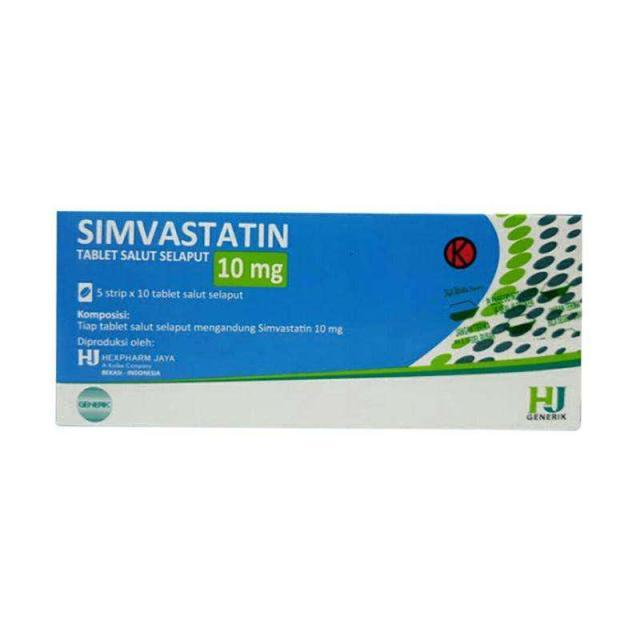drug-name: (74, 214, 292, 256)
